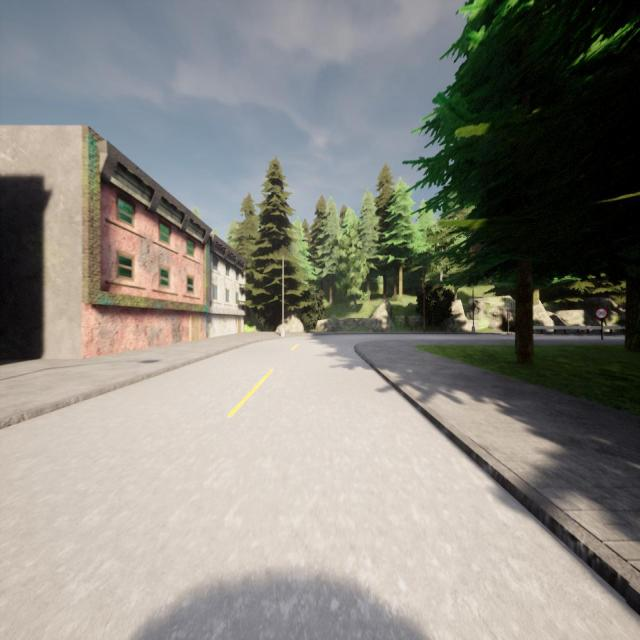Traffic_Signs: (595, 309, 608, 320), (506, 311, 512, 319)
